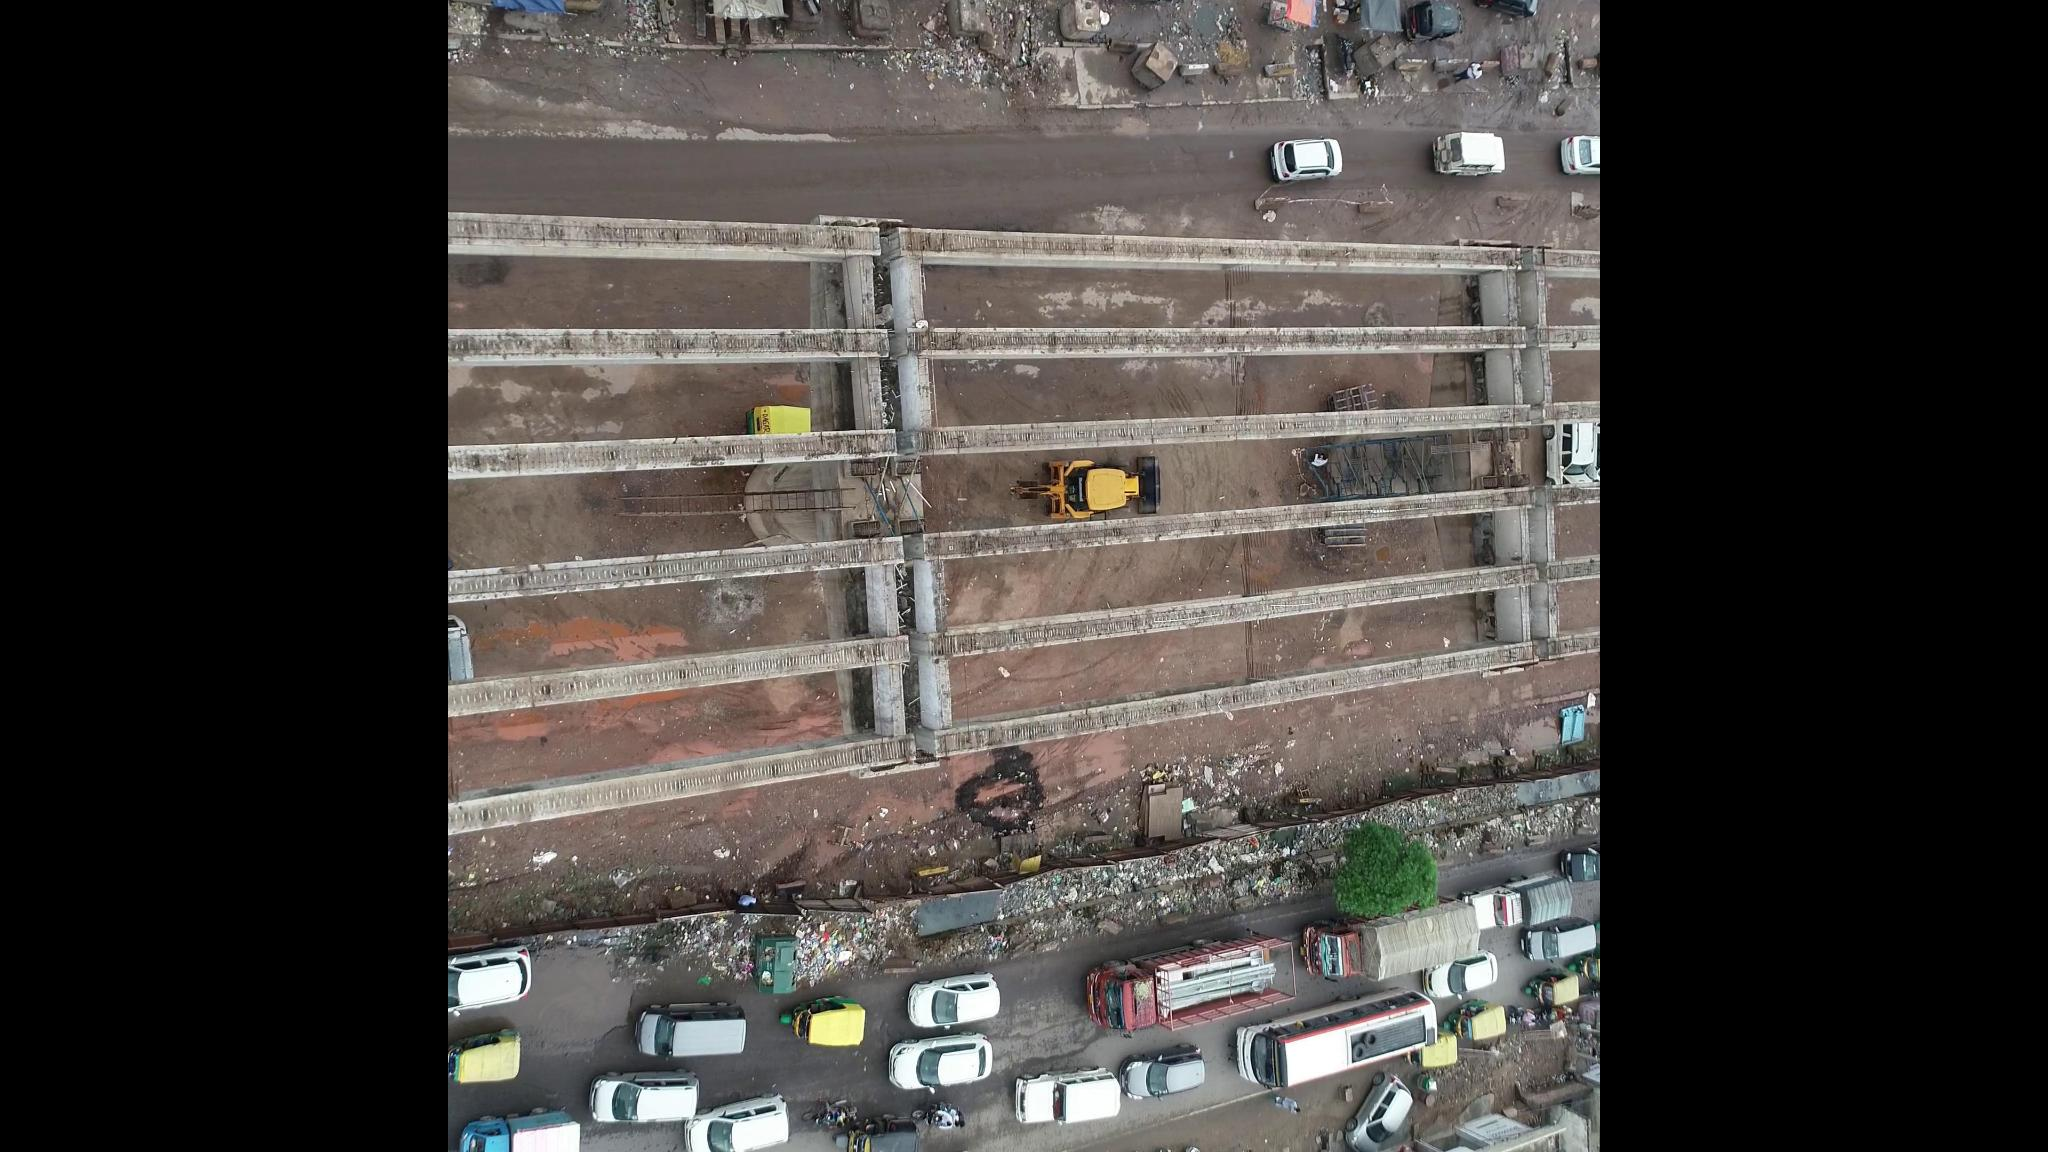Road_side_garbage: (1034, 845, 1293, 933), (800, 907, 911, 976)
